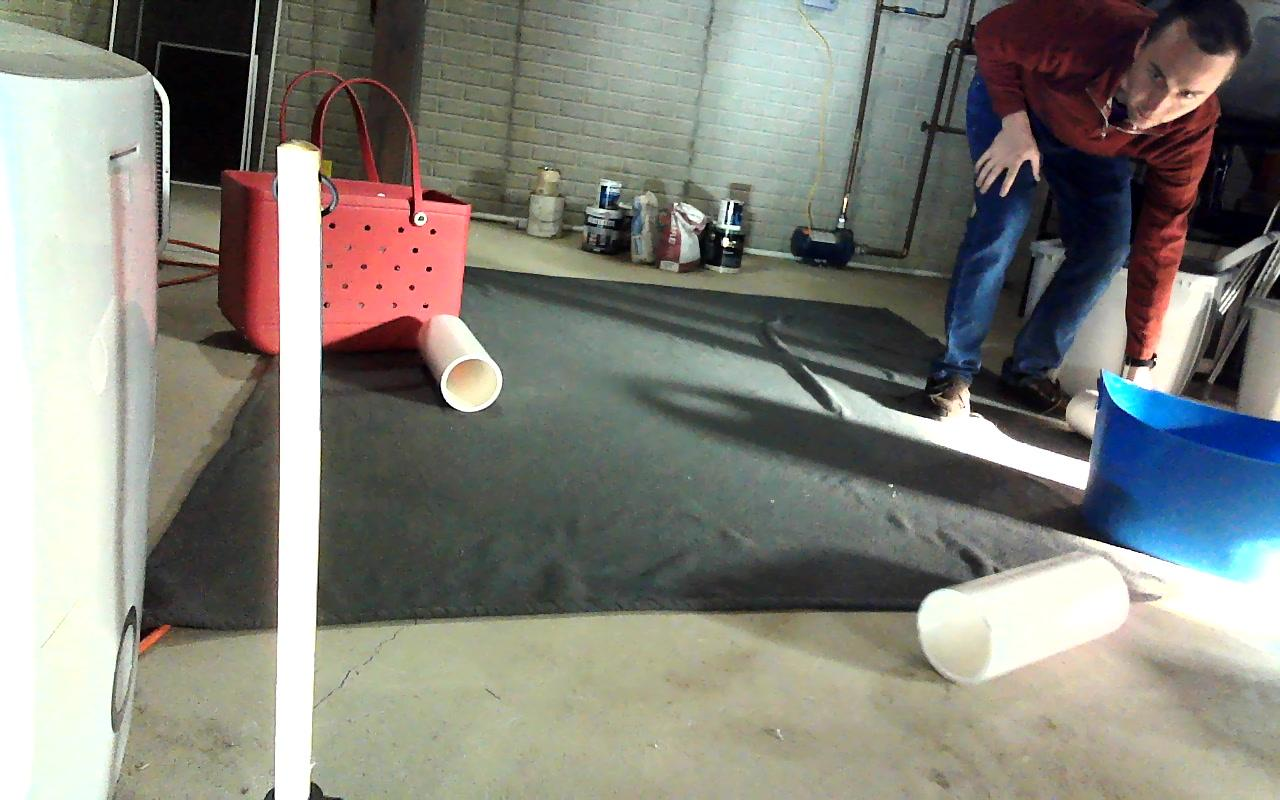coral: (918, 551, 1128, 682), (423, 313, 501, 410)
